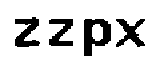p: (80, 14, 114, 60)
x: (116, 15, 148, 53)
z: (10, 15, 41, 51), (47, 18, 77, 51)
